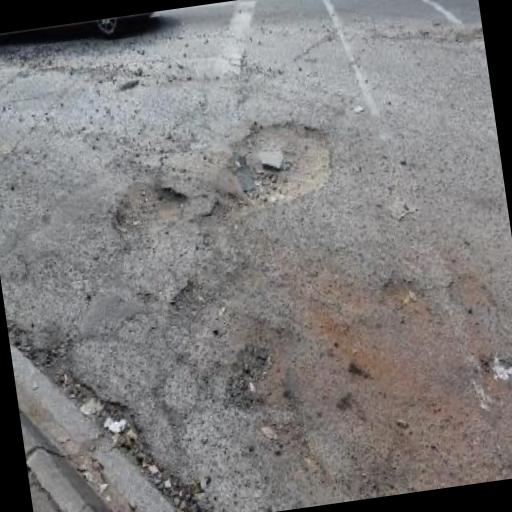pothole: (12, 329, 217, 512), (218, 112, 342, 215), (107, 172, 195, 252), (218, 337, 302, 417)
